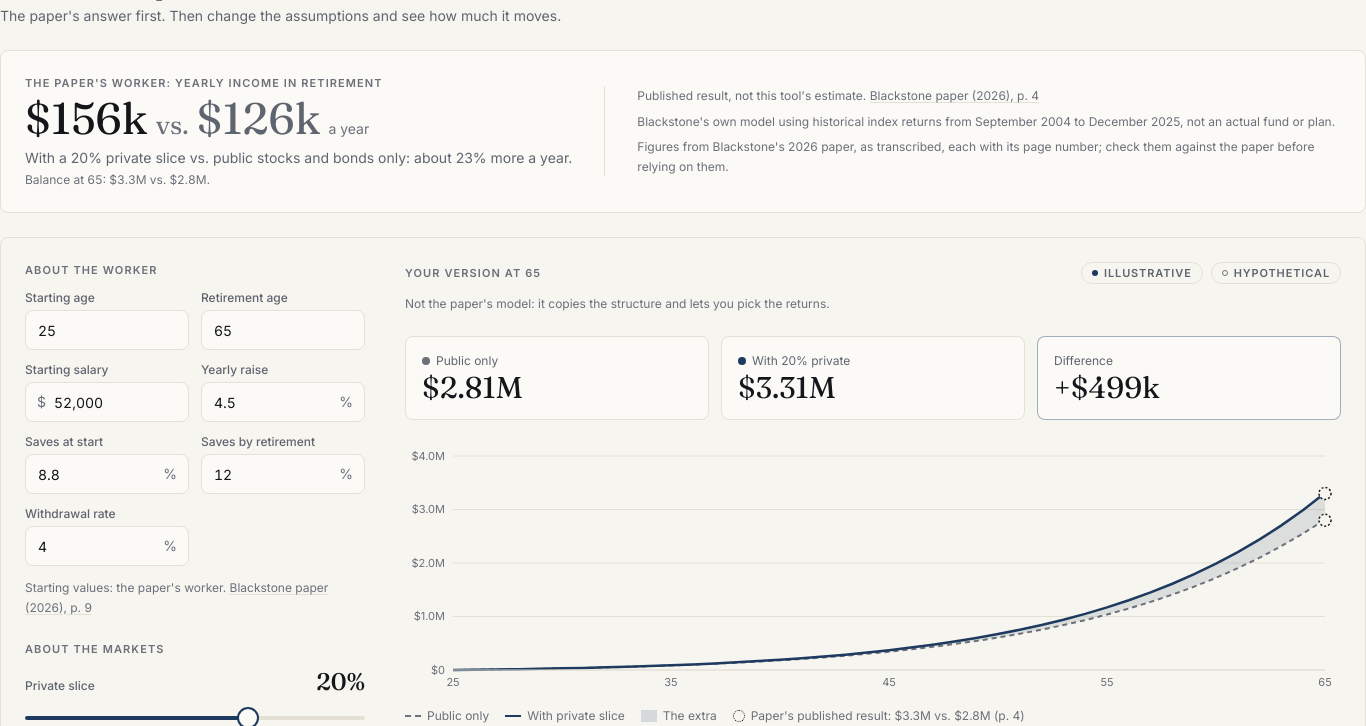
Test case: Outcome Lab › reset loads every default back
The width and height of the screenshot is (1366, 726).
Replace the text in the field labelled "Starting salary" with "80000" at (107, 402), box [25, 382, 189, 422]
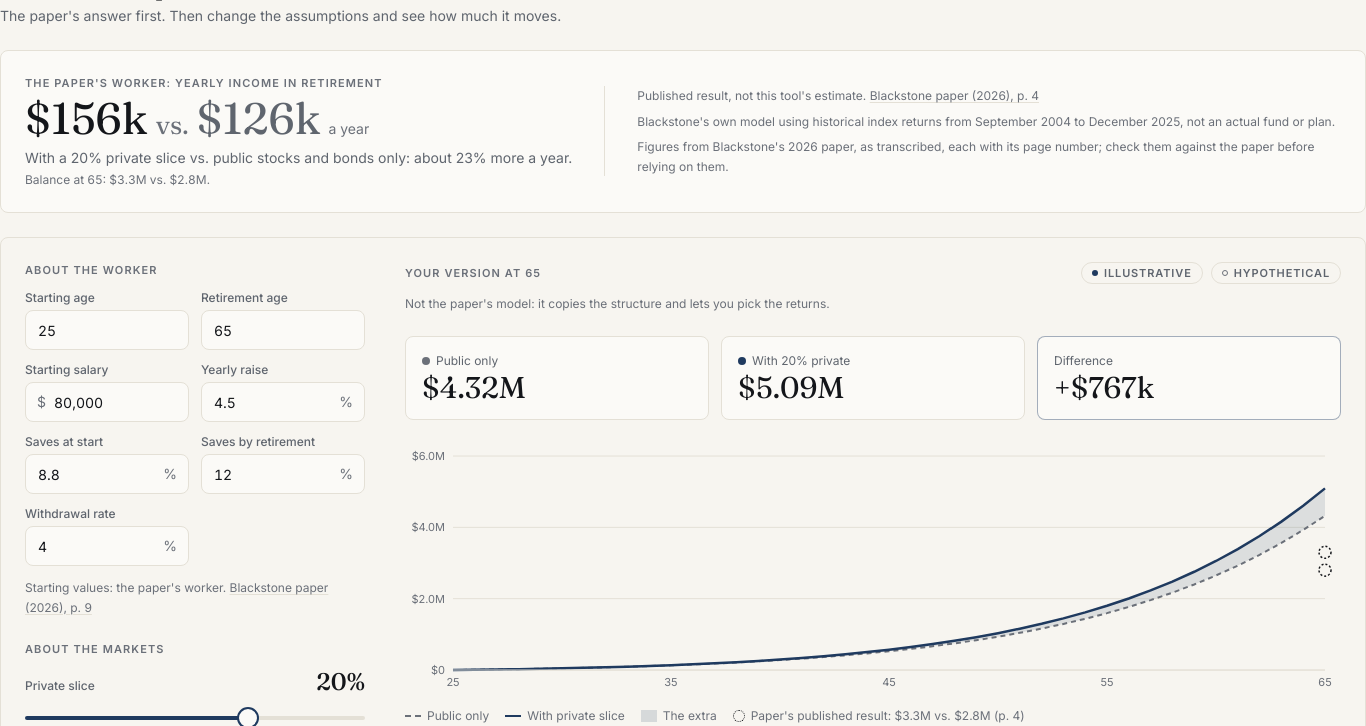
Replace the text in the field labelled "Retirement age" with "70" at (283, 330), box [201, 310, 365, 350]
(page scrolled)
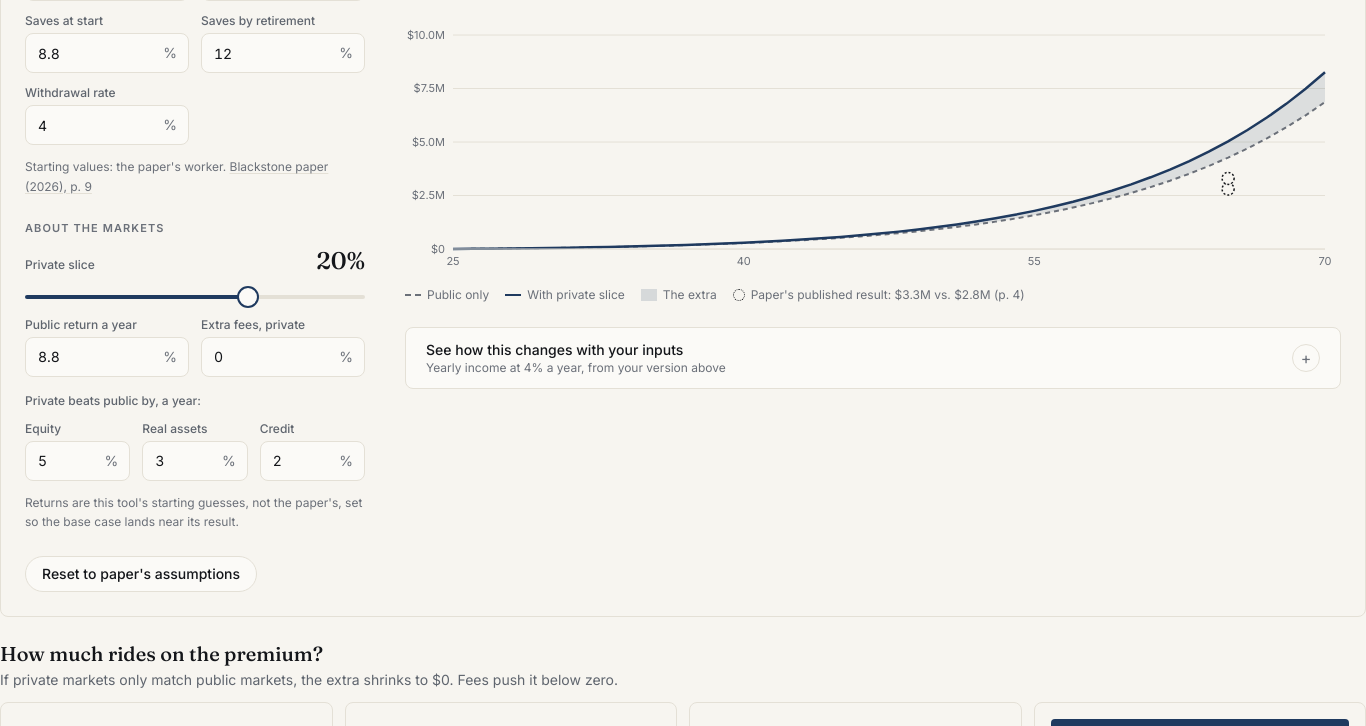
Replace the text in the field labelled "Public return a year" with "6" at (107, 356), box [25, 336, 189, 376]
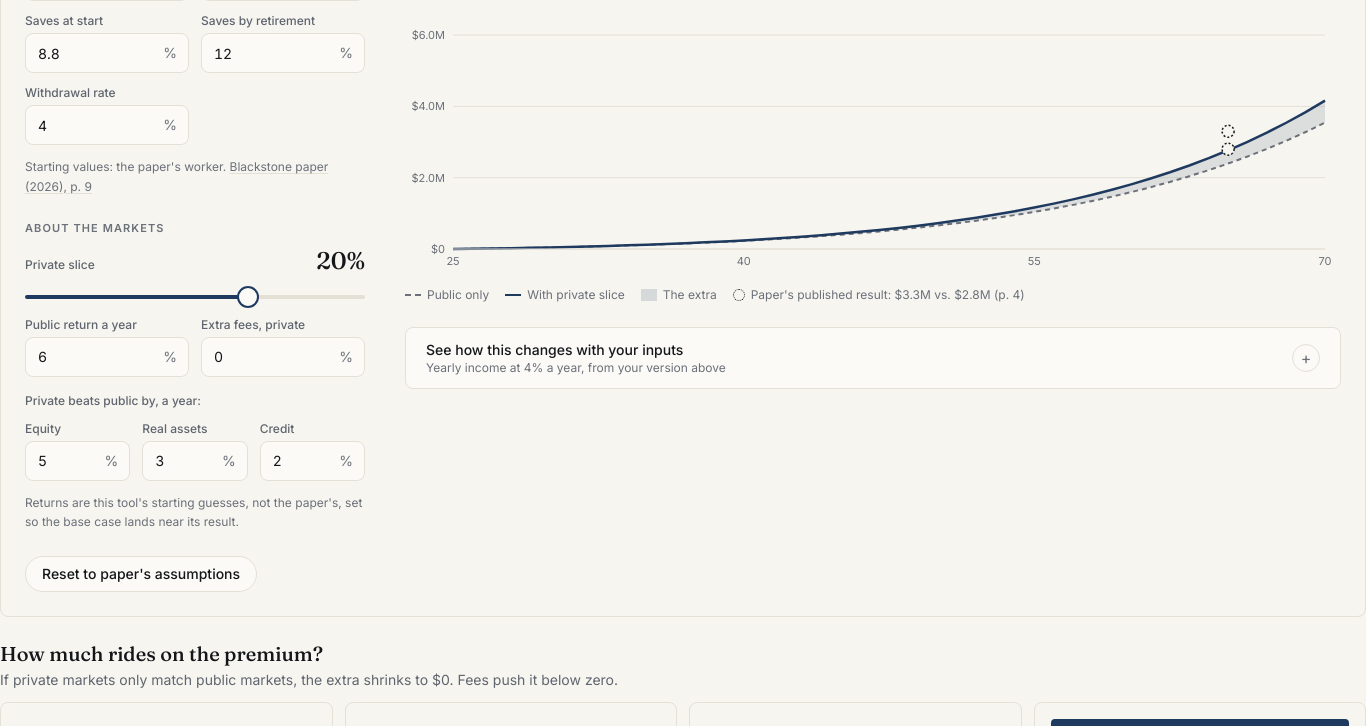
Click the button "Reset to paper's assumptions" at (141, 574), box [25, 556, 257, 592]
(page scrolled)
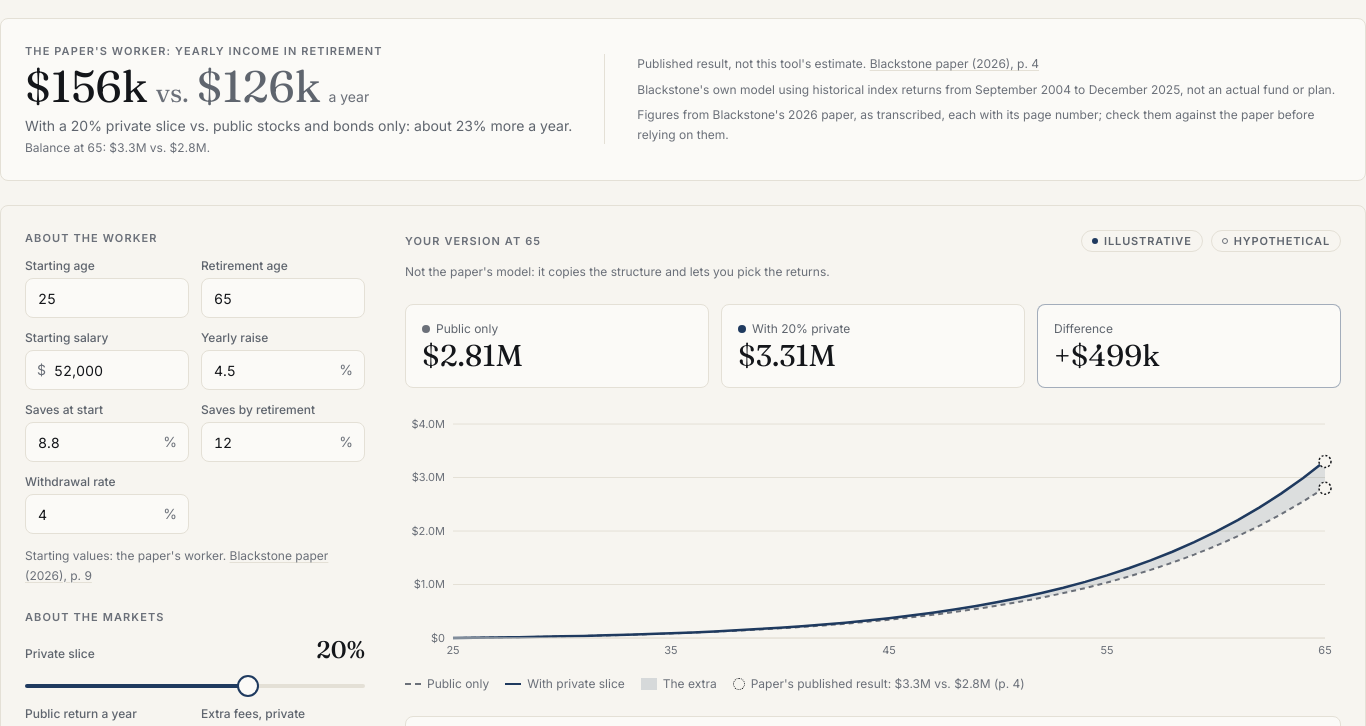
Result: the field labelled "Starting salary" holds "52,000" at [25, 350, 189, 390]
Result: the field labelled "Retirement age" holds "65" at [201, 278, 365, 318]
